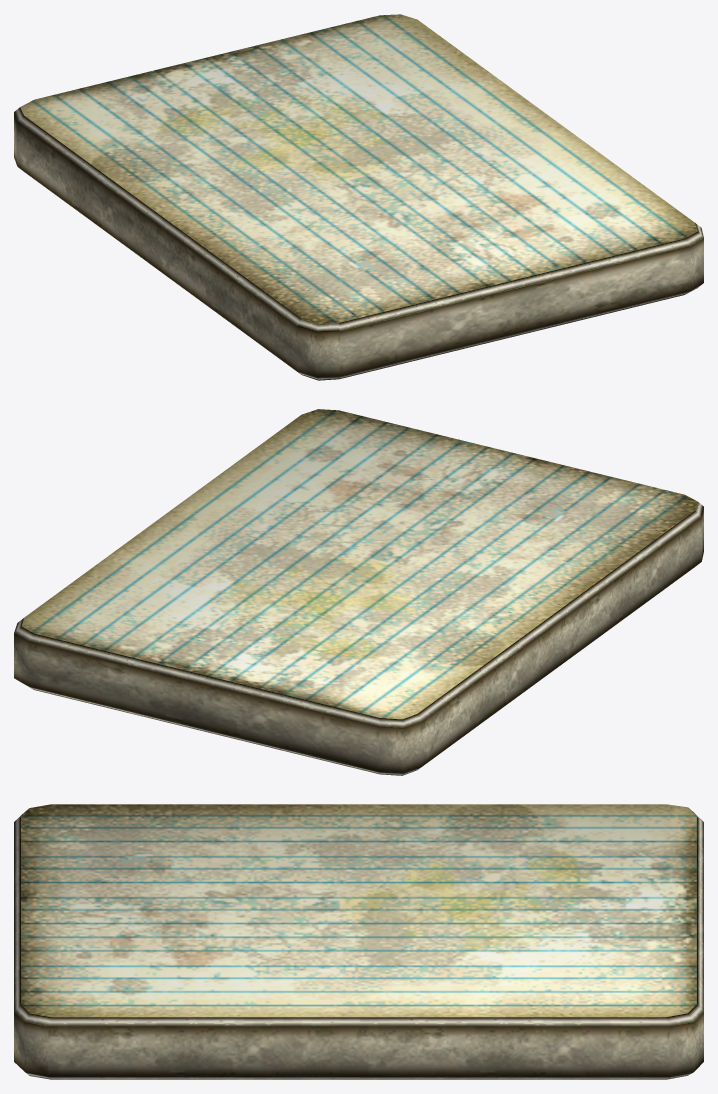
Rendered from mattress_soiled.fbx.
The picture shows the model from 3 angles, top to bottom: view 1: azimuth 30°, elevation 25°; view 2: azimuth 150°, elevation 25°; view 3: azimuth 270°, elevation 25°; orthographic projection. The views are drawn at different scales.
Visible parts, largest first — view 1: mesh_0; view 2: mesh_0; view 3: mesh_0.
Part boxes in pixels (x1,y1,x2,y2): mesh_0: (14, 14, 703, 380); mesh_0: (14, 409, 703, 775); mesh_0: (14, 804, 703, 1079).
Bounding box in the file's own units: 150 × 20 × 200.
1 material, 1 textured.
